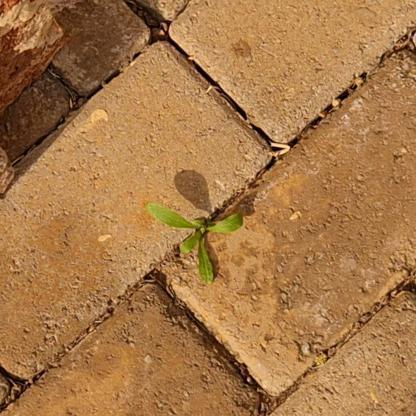Weeds: (148, 199, 243, 287)
